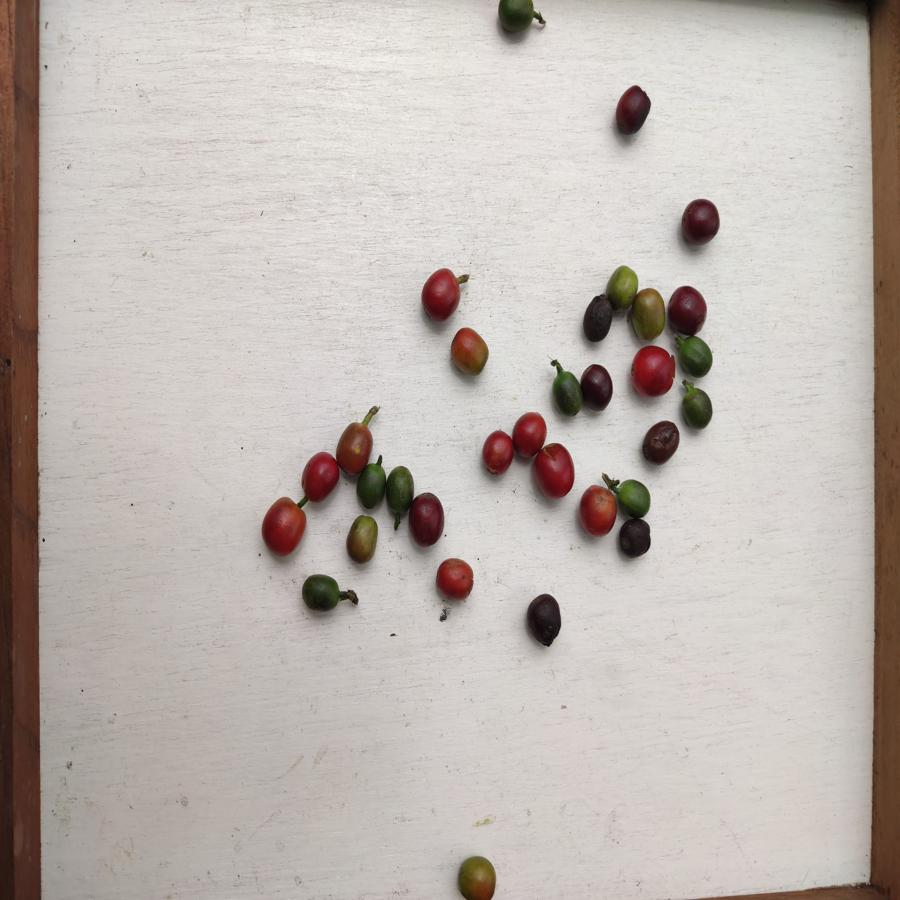Inmaduro: (300, 571, 341, 612), (676, 336, 715, 379), (682, 386, 714, 433), (385, 466, 415, 515), (551, 368, 581, 417), (496, 1, 535, 35), (618, 477, 650, 518), (360, 462, 385, 509)
Maduro: (260, 496, 308, 556), (532, 442, 575, 499), (631, 343, 674, 400), (433, 551, 480, 600), (419, 266, 460, 321), (300, 452, 341, 502), (579, 483, 615, 536), (512, 412, 548, 461), (482, 429, 517, 477)
Pinton: (449, 326, 490, 376), (343, 510, 381, 563), (632, 285, 667, 340), (456, 856, 498, 900), (335, 419, 376, 462), (611, 261, 638, 313)
Sobremaduro: (410, 491, 444, 548), (666, 285, 706, 333), (682, 199, 720, 249), (615, 85, 652, 136), (527, 594, 560, 647), (642, 419, 680, 465), (581, 362, 613, 414), (618, 518, 652, 558), (583, 296, 611, 342)
